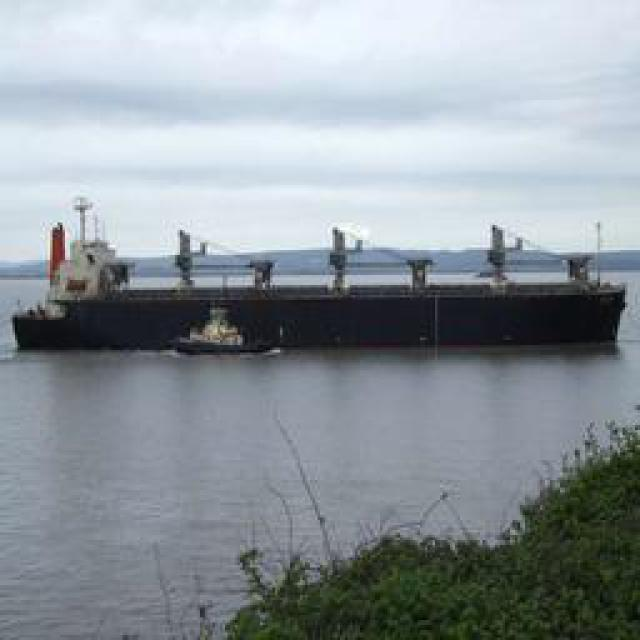Ship: (10, 215, 635, 348)
